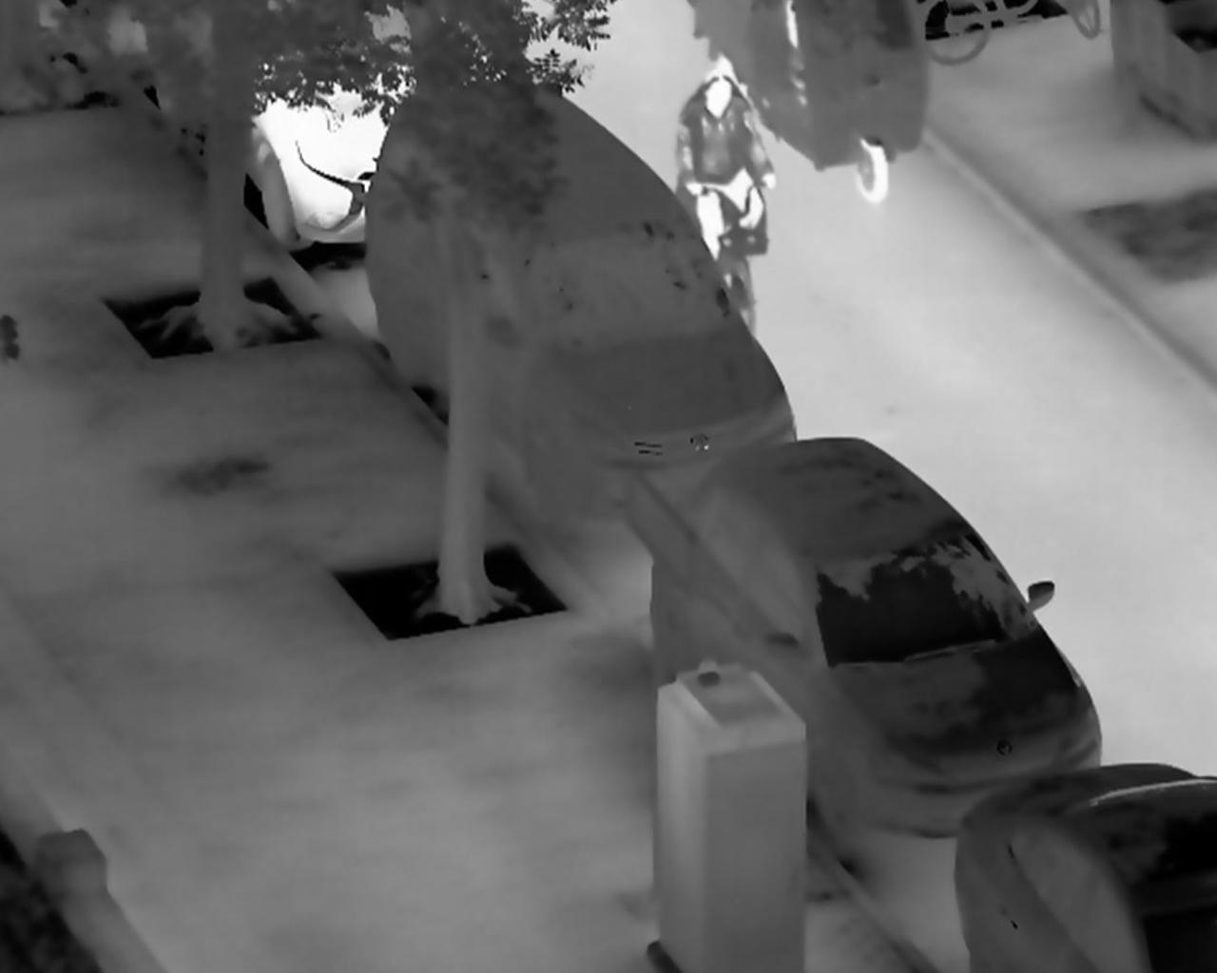person: (673, 65, 778, 265)
